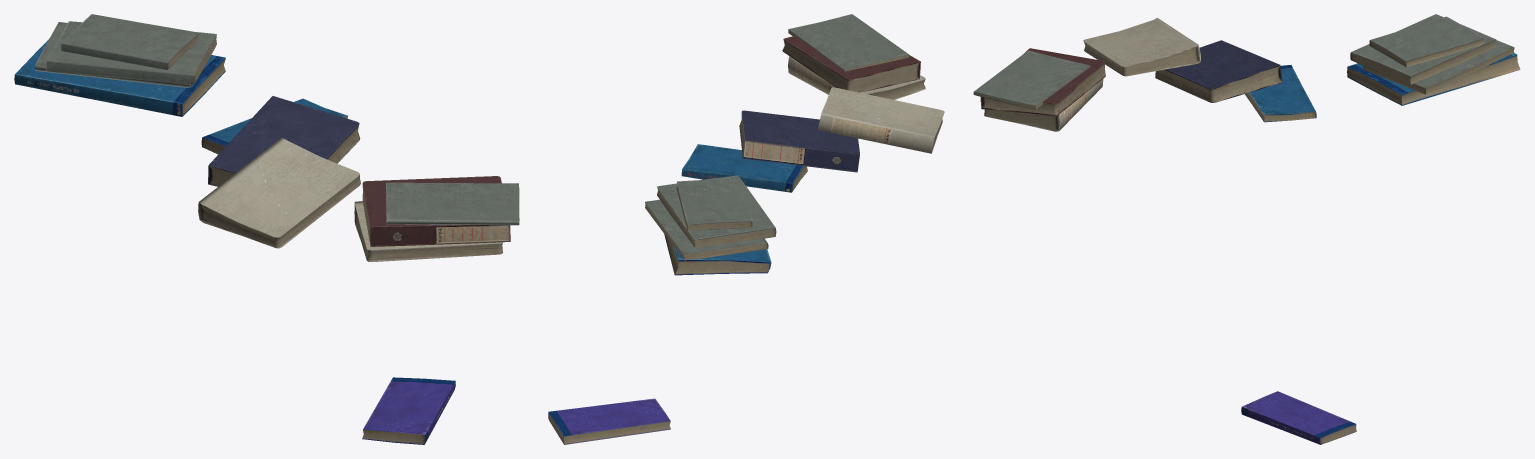
The model's file is sm39_014_deskset01c.fbx.
3 views of the same model, side by side, from view 1: azimuth 30°, elevation 25°; view 2: azimuth 150°, elevation 25°; view 3: azimuth 270°, elevation 25° (orthographic). The views are drawn at different scales.
Parts seen in each view (by area): view 1: LOD_1_Group_7_Sub_1__sm36_007_PaperWork01A_A_Mat, LOD_1_Group_1_Sub_1__sm36_007_PaperWork01A_A_Mat, LOD_1_Group_4_Sub_1__sm36_007_PaperWork01A_A_Mat, LOD_1_Group_8_Sub_1__sm36_007_PaperWork01A_A_Mat, LOD_1_Group_0_Sub_1__sm36_007_PaperWork01A_A_Mat, LOD_1_Group_6_Sub_1__sm36_007_PaperWork01A_A_Mat, LOD_1_Group_9_Sub_1__sm36_007_PaperWork01A_A_Mat, LOD_1_Group_3_Sub_1__sm36_007_PaperWork01A_A_Mat, LOD_1_Group_2_Sub_1__sm36_007_PaperWork01A_A_Mat, LOD_1_Group_5_Sub_1__sm36_007_PaperWork01A_A_Mat; view 2: LOD_1_Group_7_Sub_1__sm36_007_PaperWork01A_A_Mat, LOD_1_Group_4_Sub_1__sm36_007_PaperWork01A_A_Mat, LOD_1_Group_1_Sub_1__sm36_007_PaperWork01A_A_Mat, LOD_1_Group_8_Sub_1__sm36_007_PaperWork01A_A_Mat, LOD_1_Group_2_Sub_1__sm36_007_PaperWork01A_A_Mat, LOD_1_Group_6_Sub_1__sm36_007_PaperWork01A_A_Mat, LOD_1_Group_9_Sub_1__sm36_007_PaperWork01A_A_Mat, LOD_1_Group_3_Sub_1__sm36_007_PaperWork01A_A_Mat, LOD_1_Group_0_Sub_1__sm36_007_PaperWork01A_A_Mat, LOD_1_Group_5_Sub_1__sm36_007_PaperWork01A_A_Mat; view 3: LOD_1_Group_1_Sub_1__sm36_007_PaperWork01A_A_Mat, LOD_1_Group_4_Sub_1__sm36_007_PaperWork01A_A_Mat, LOD_1_Group_7_Sub_1__sm36_007_PaperWork01A_A_Mat, LOD_1_Group_8_Sub_1__sm36_007_PaperWork01A_A_Mat, LOD_1_Group_6_Sub_1__sm36_007_PaperWork01A_A_Mat, LOD_1_Group_3_Sub_1__sm36_007_PaperWork01A_A_Mat, LOD_1_Group_0_Sub_1__sm36_007_PaperWork01A_A_Mat, LOD_1_Group_2_Sub_1__sm36_007_PaperWork01A_A_Mat, LOD_1_Group_9_Sub_1__sm36_007_PaperWork01A_A_Mat, LOD_1_Group_5_Sub_1__sm36_007_PaperWork01A_A_Mat.
Boxes of the visible parts, bbox=[...] form: LOD_1_Group_7_Sub_1__sm36_007_PaperWork01A_A_Mat: bbox=[198, 137, 360, 248]; LOD_1_Group_1_Sub_1__sm36_007_PaperWork01A_A_Mat: bbox=[354, 201, 502, 444]; LOD_1_Group_4_Sub_1__sm36_007_PaperWork01A_A_Mat: bbox=[208, 96, 360, 186]; LOD_1_Group_8_Sub_1__sm36_007_PaperWork01A_A_Mat: bbox=[386, 182, 519, 225]; LOD_1_Group_0_Sub_1__sm36_007_PaperWork01A_A_Mat: bbox=[14, 38, 225, 116]; LOD_1_Group_6_Sub_1__sm36_007_PaperWork01A_A_Mat: bbox=[61, 14, 199, 69]; LOD_1_Group_9_Sub_1__sm36_007_PaperWork01A_A_Mat: bbox=[362, 176, 510, 246]; LOD_1_Group_3_Sub_1__sm36_007_PaperWork01A_A_Mat: bbox=[46, 21, 216, 84]; LOD_1_Group_2_Sub_1__sm36_007_PaperWork01A_A_Mat: bbox=[201, 98, 347, 154]; LOD_1_Group_5_Sub_1__sm36_007_PaperWork01A_A_Mat: bbox=[35, 22, 190, 87]; LOD_1_Group_7_Sub_1__sm36_007_PaperWork01A_A_Mat: bbox=[818, 87, 944, 153]; LOD_1_Group_4_Sub_1__sm36_007_PaperWork01A_A_Mat: bbox=[739, 110, 859, 172]; LOD_1_Group_1_Sub_1__sm36_007_PaperWork01A_A_Mat: bbox=[548, 56, 925, 444]; LOD_1_Group_8_Sub_1__sm36_007_PaperWork01A_A_Mat: bbox=[788, 14, 909, 71]; LOD_1_Group_2_Sub_1__sm36_007_PaperWork01A_A_Mat: bbox=[681, 144, 807, 192]; LOD_1_Group_6_Sub_1__sm36_007_PaperWork01A_A_Mat: bbox=[676, 179, 752, 230]; LOD_1_Group_9_Sub_1__sm36_007_PaperWork01A_A_Mat: bbox=[782, 35, 920, 92]; LOD_1_Group_3_Sub_1__sm36_007_PaperWork01A_A_Mat: bbox=[657, 175, 776, 247]; LOD_1_Group_0_Sub_1__sm36_007_PaperWork01A_A_Mat: bbox=[658, 199, 771, 275]; LOD_1_Group_5_Sub_1__sm36_007_PaperWork01A_A_Mat: bbox=[645, 199, 768, 260]; LOD_1_Group_1_Sub_1__sm36_007_PaperWork01A_A_Mat: bbox=[984, 79, 1356, 444]; LOD_1_Group_4_Sub_1__sm36_007_PaperWork01A_A_Mat: bbox=[1155, 40, 1282, 102]; LOD_1_Group_7_Sub_1__sm36_007_PaperWork01A_A_Mat: bbox=[1083, 18, 1200, 76]; LOD_1_Group_8_Sub_1__sm36_007_PaperWork01A_A_Mat: bbox=[973, 50, 1090, 109]; LOD_1_Group_6_Sub_1__sm36_007_PaperWork01A_A_Mat: bbox=[1369, 16, 1483, 67]; LOD_1_Group_3_Sub_1__sm36_007_PaperWork01A_A_Mat: bbox=[1350, 14, 1496, 84]; LOD_1_Group_0_Sub_1__sm36_007_PaperWork01A_A_Mat: bbox=[1347, 53, 1520, 105]; LOD_1_Group_2_Sub_1__sm36_007_PaperWork01A_A_Mat: bbox=[1245, 65, 1316, 122]; LOD_1_Group_9_Sub_1__sm36_007_PaperWork01A_A_Mat: bbox=[980, 48, 1105, 115]; LOD_1_Group_5_Sub_1__sm36_007_PaperWork01A_A_Mat: bbox=[1363, 40, 1514, 94].
Bounding box in the file's own units: 0.9637 × 0.9637 × 1.56.
